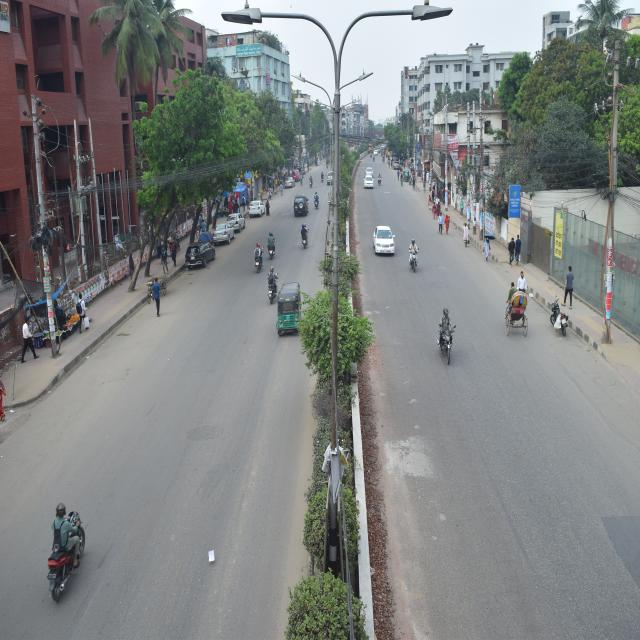car: (369, 219, 399, 266), (209, 217, 239, 248), (227, 203, 250, 232), (247, 197, 271, 220), (362, 169, 378, 193)
microbus: (181, 235, 217, 272), (291, 192, 313, 219)
motorbike: (42, 487, 98, 607), (546, 294, 573, 339), (436, 317, 460, 365), (407, 242, 429, 276), (265, 269, 279, 306), (251, 242, 266, 275), (296, 223, 313, 251), (263, 234, 282, 258), (314, 190, 324, 210)
